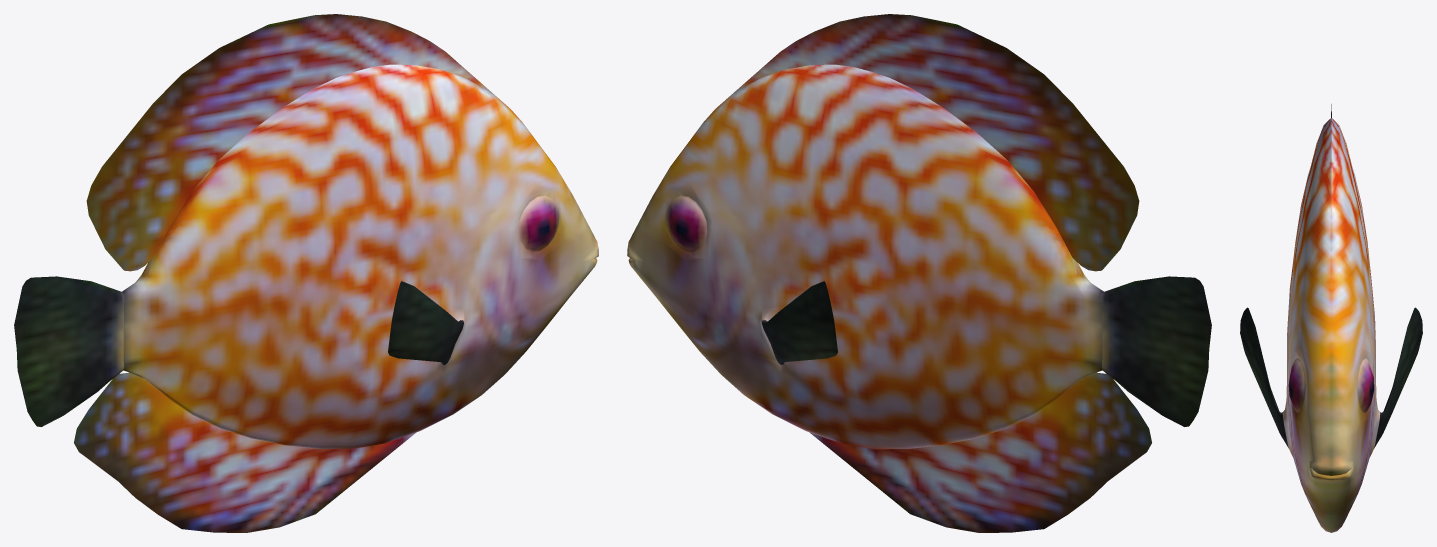
File: ryba_tercovec.glb
3 views of the same model, side by side, from view 1: azimuth 30°, elevation 25°; view 2: azimuth 150°, elevation 25°; view 3: azimuth 270°, elevation 25° (orthographic). The views are drawn at different scales.
Parts seen in each view (by area): view 1: ryba_tercovec; view 2: ryba_tercovec; view 3: ryba_tercovec.
Part boxes in pixels (x1,y1,x2,y2): ryba_tercovec: (14, 14, 598, 532); ryba_tercovec: (627, 14, 1211, 532); ryba_tercovec: (1240, 104, 1422, 532).
Size of the model in its own units: 0.1999 by 0.166 by 0.0564.
Materials: 1 (1 with a texture image).
